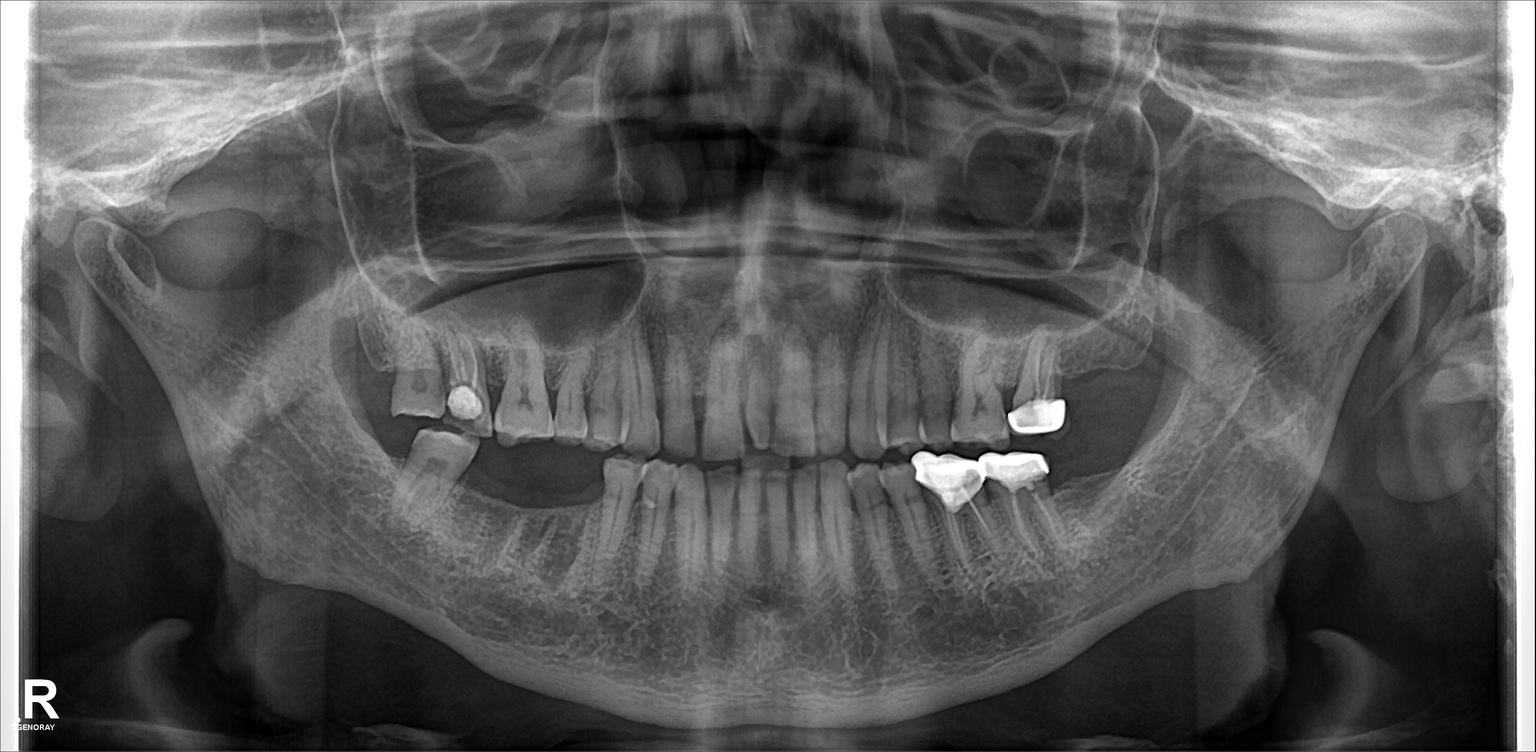Endodontically Treated Tooth: (922, 460, 992, 585), (991, 456, 1059, 579), (1011, 337, 1070, 447), (438, 333, 487, 426)
Missing Tooth: (1078, 344, 1149, 434), (523, 456, 575, 565), (1067, 460, 1111, 565), (471, 450, 515, 554), (348, 328, 395, 408), (367, 423, 405, 503)
